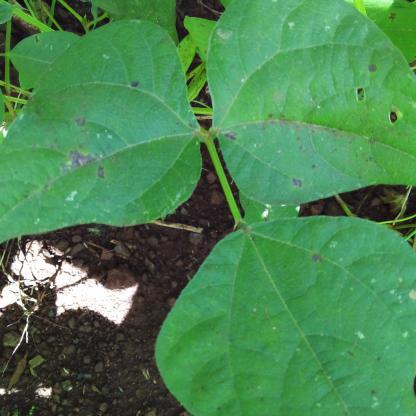Beans_Angular_LeafSpot: (172, 222, 416, 414), (0, 24, 198, 249), (212, 0, 416, 202), (372, 0, 416, 70)
